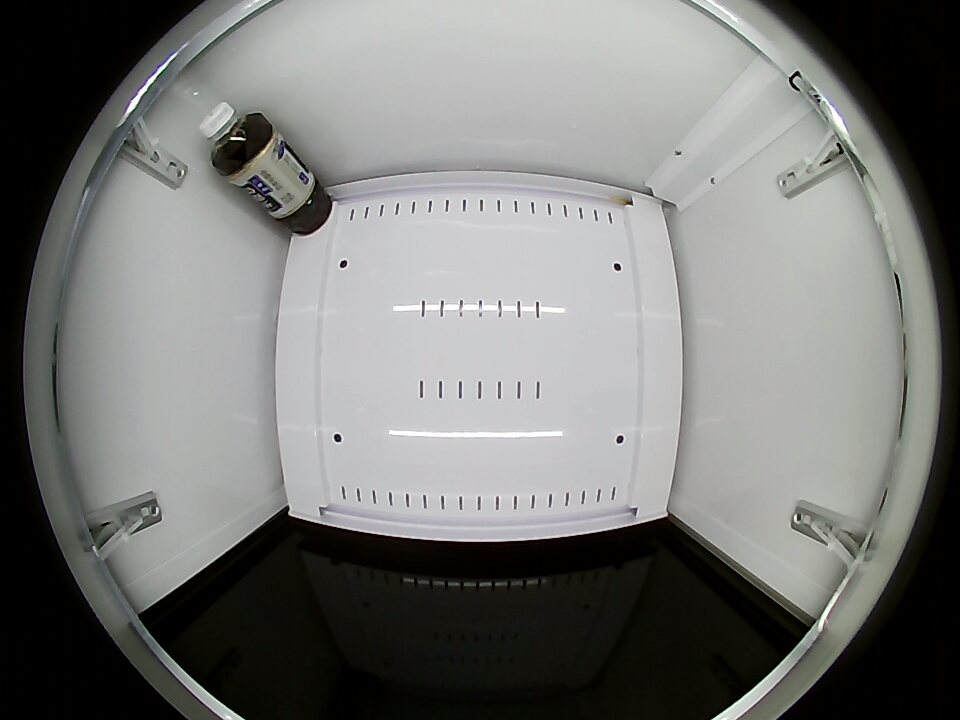wulongcha: (199, 102, 271, 178)
